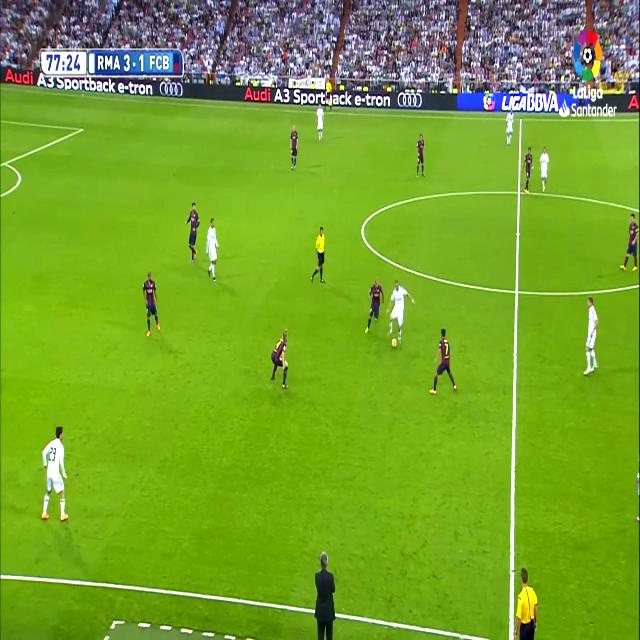bigarea_bottom_outter: (2, 154, 9, 170)
halfcircle_bottom: (511, 277, 523, 304)
halfcircle_top: (514, 180, 524, 203)
midline_top_intersection: (517, 113, 525, 125)
